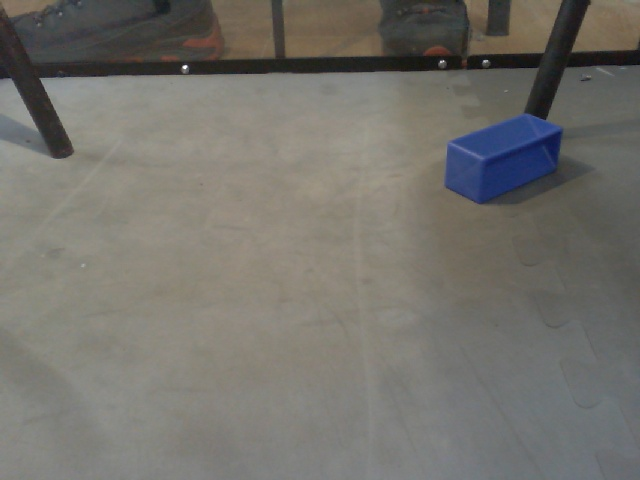BlueSample: (444, 111, 566, 206)
